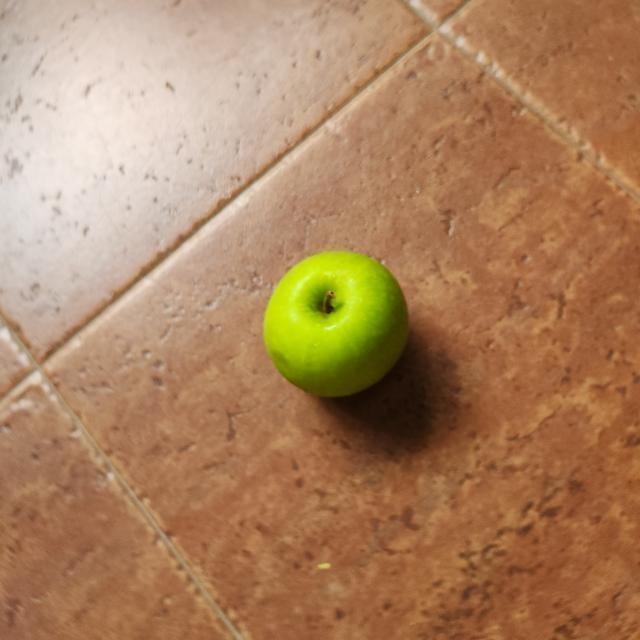apple: (256, 244, 416, 408)
